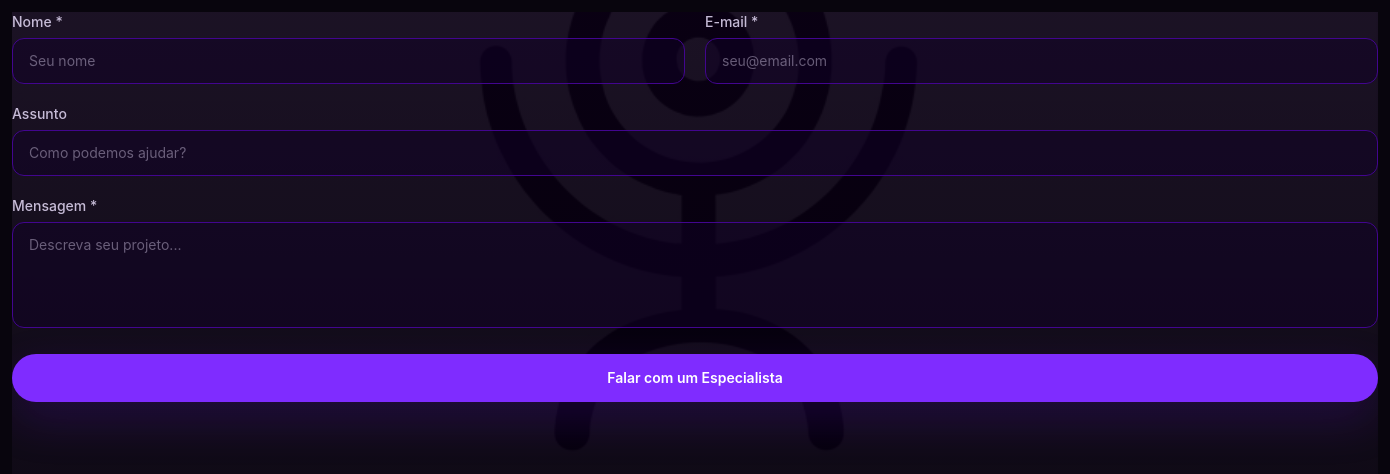
Test: ContactForm › shows success state after successful submission
In the field with placeholder "Seu nome": (348, 61) [12,38,685,84], type "João"
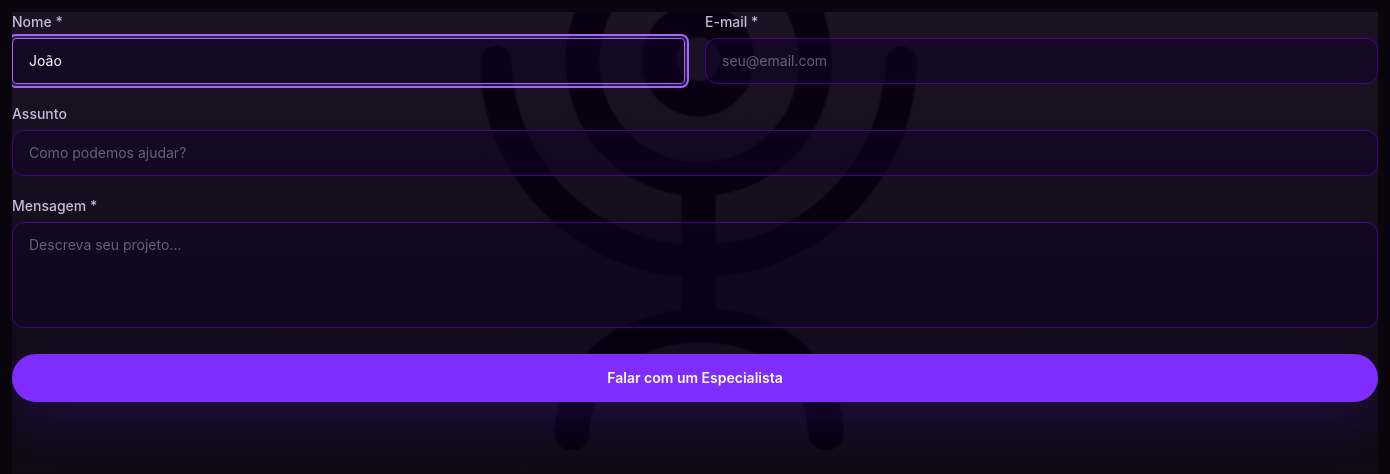
In the field with placeholder "seu@email.com": (1042, 61) [705,38,1378,84], type "joao@email.com"
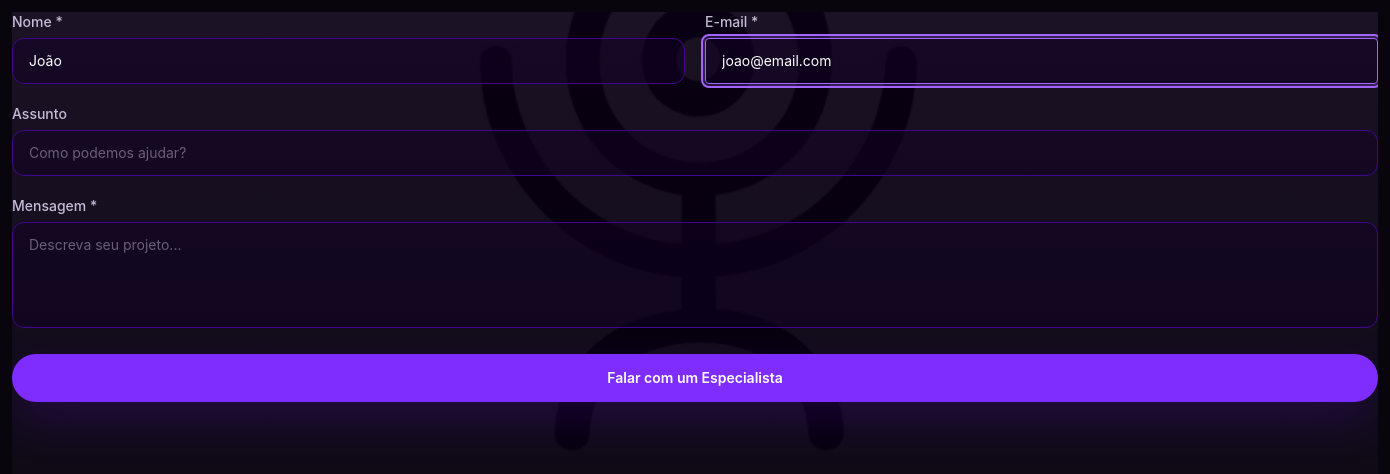
In the text box with placeholder "Descreva seu projeto...": (695, 275) [12,222,1378,328], type "Preciso de ajuda com TI"
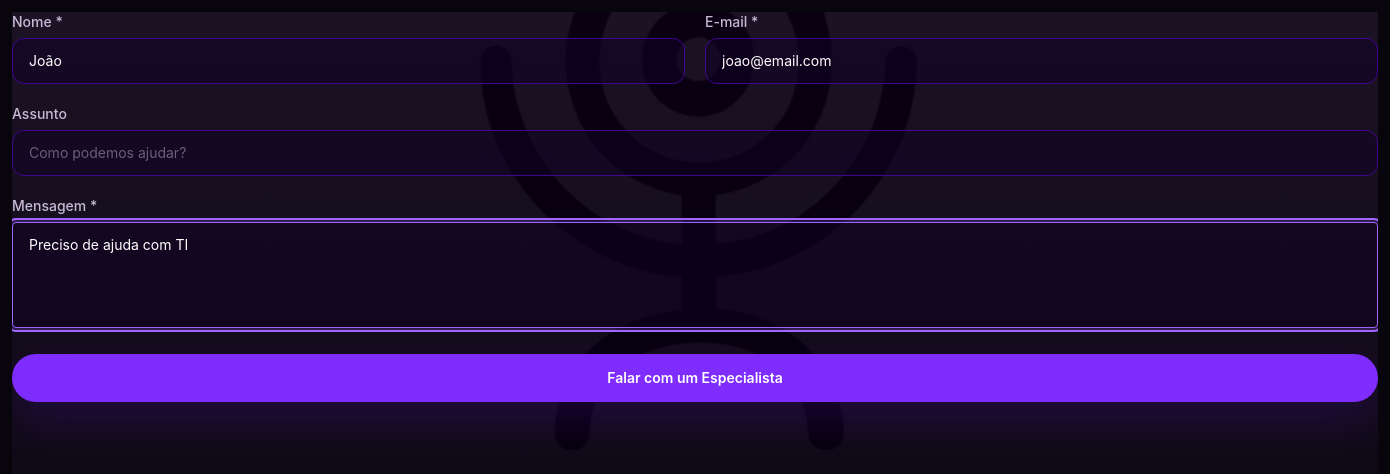
Click the button "Falar com um Especialista": click(695, 378) [12,354,1378,402]
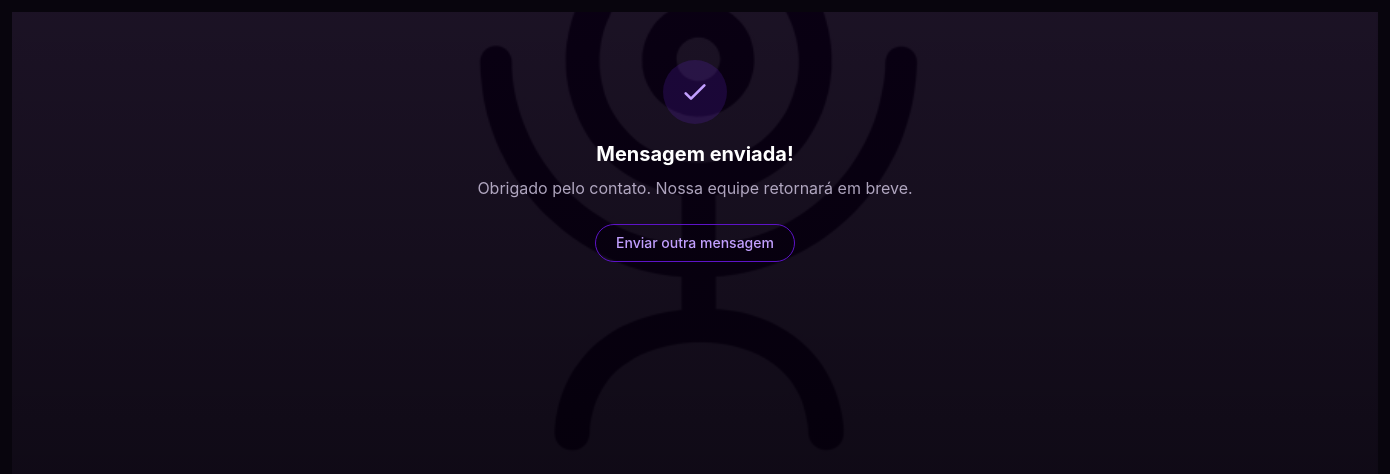
Result: the heading "Mensagem enviada!" is shown at [596,140,794,168]
